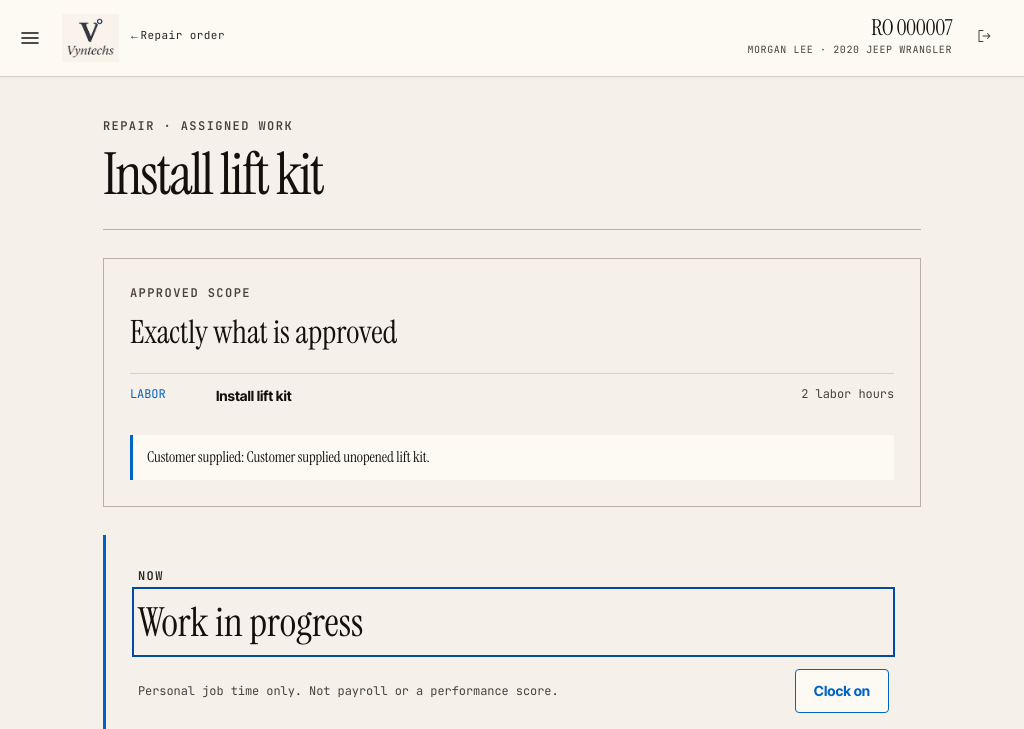
Test: simple work workspace › clocks on only after a strict confirmed server response
What coordinates should you click on to do the following:
click the button "Clock on"
I would click on:
 (842, 691)
Its box is [795,669,889,713].
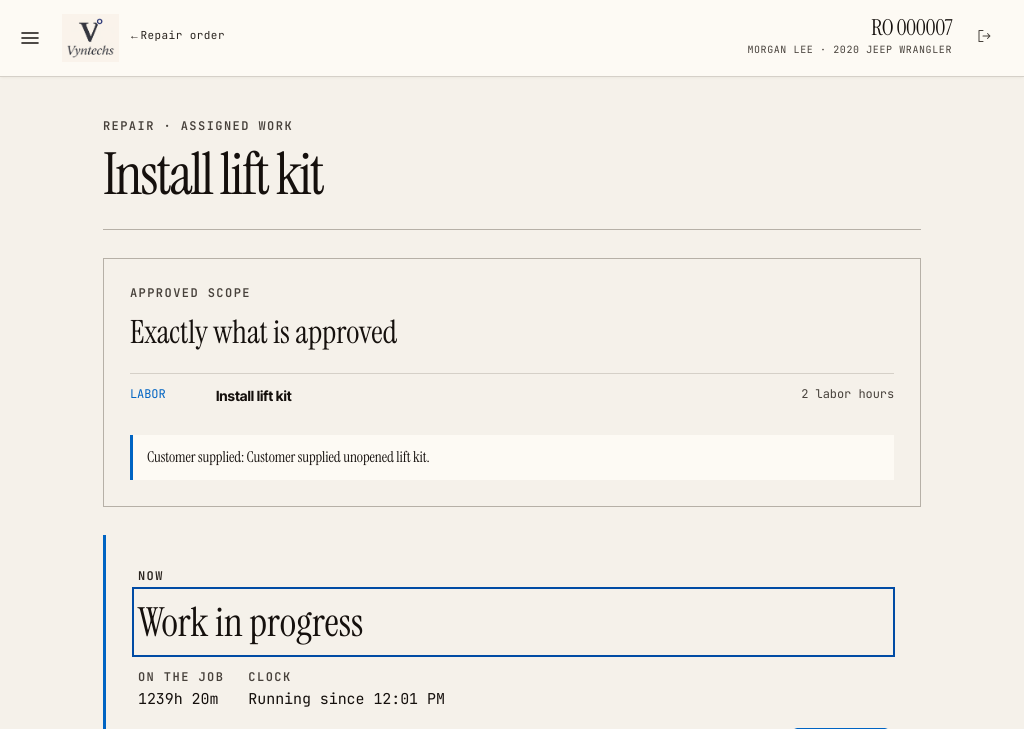
Now the text "Running since 12:01 PM" is shown, box [248,689,445,710]
